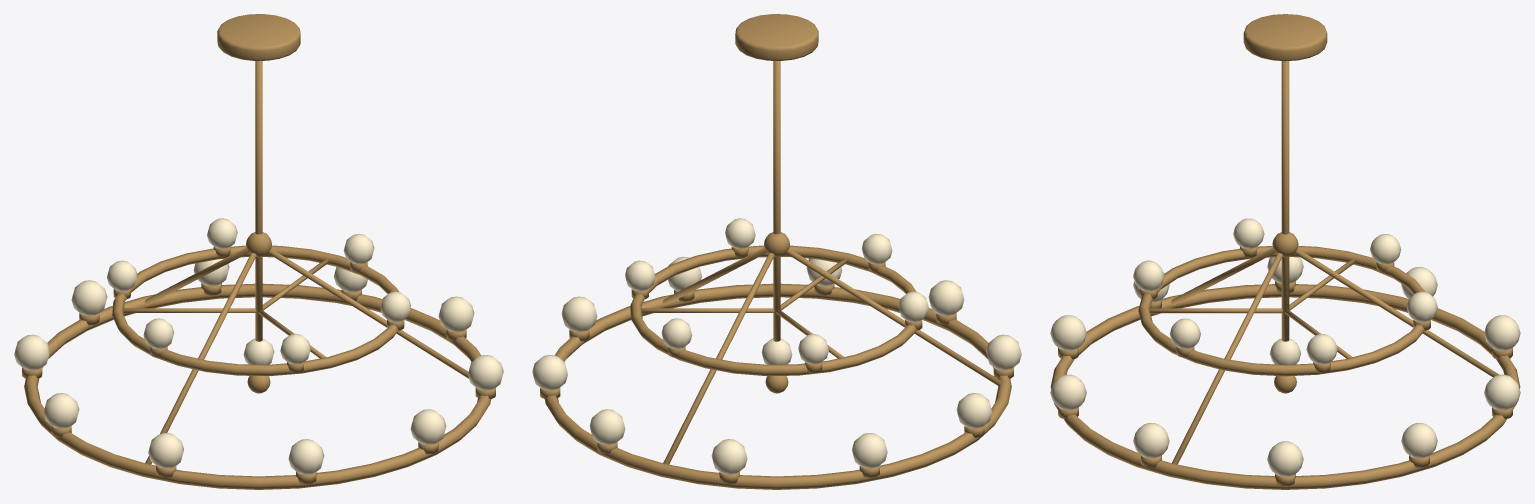
The model's file is chandelier.glb.
3 renders of one model, left to right at view 1: azimuth 30°, elevation 25°; view 2: azimuth 150°, elevation 25°; view 3: azimuth 270°, elevation 25°, orthographic.
Visible parts, largest first — view 1: chandelier; view 2: chandelier; view 3: chandelier.
Boxes of the visible parts, bbox=[...] form: chandelier: bbox=[14, 14, 503, 489]; chandelier: bbox=[532, 14, 1021, 489]; chandelier: bbox=[1050, 14, 1520, 489].
Size of the model in its own units: 0.9366 by 0.762 by 0.8974.
